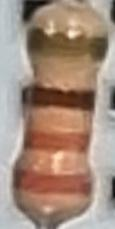Brown: (30, 85, 95, 112)
Orange: (13, 170, 91, 197), (24, 129, 88, 153)
Side-Gold: (26, 26, 108, 64)
